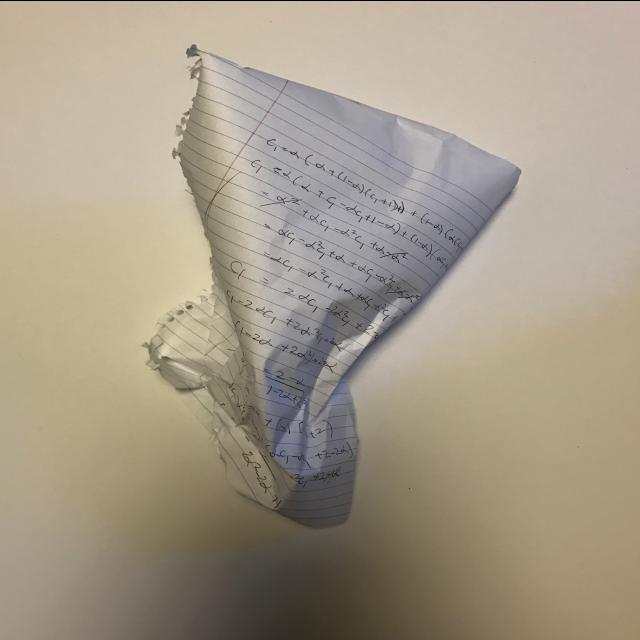Paper: (134, 26, 552, 546)
